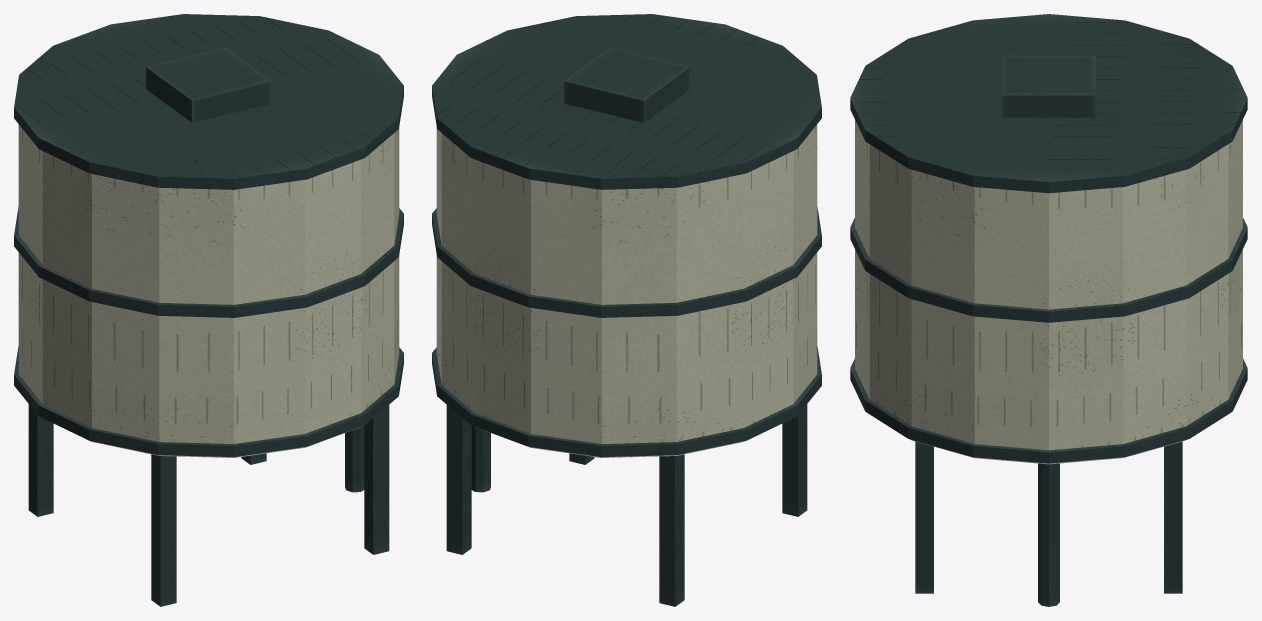
Rendered from roof_tank.fbx.
The picture shows the model from 3 angles, left to right: view 1: azimuth 30°, elevation 25°; view 2: azimuth 150°, elevation 25°; view 3: azimuth 270°, elevation 25°; orthographic projection.
Parts seen in each view (by area): view 1: roof_tank__tank, roof_tank__tank_hoop.002, roof_tank__cap, roof_tank__tank_hoop, roof_tank__tank_hoop.001, roof_tank__support, roof_tank__support.002, roof_tank__support.001, roof_tank__feed_pipe; view 2: roof_tank__tank, roof_tank__tank_hoop.002, roof_tank__cap, roof_tank__tank_hoop, roof_tank__tank_hoop.001, roof_tank__support.001, roof_tank__support.003, roof_tank__support, roof_tank__feed_pipe; view 3: roof_tank__tank, roof_tank__tank_hoop.002, roof_tank__tank_hoop, roof_tank__tank_hoop.001, roof_tank__cap, roof_tank__feed_pipe, roof_tank__support.002, roof_tank__support.003.
Part boxes in pixels (box(x1,y1,x2,y2)): roof_tank__tank: box(18, 124, 399, 457); roof_tank__tank_hoop.002: box(14, 14, 403, 189); roof_tank__cap: box(146, 47, 271, 122); roof_tank__tank_hoop: box(14, 346, 403, 457); roof_tank__tank_hoop.001: box(14, 207, 403, 317); roof_tank__support: box(151, 454, 176, 606); roof_tank__support.002: box(364, 405, 389, 554); roof_tank__support.001: box(28, 404, 53, 516); roof_tank__feed_pipe: box(345, 426, 364, 492); roof_tank__tank: box(436, 124, 817, 457); roof_tank__tank_hoop.002: box(432, 14, 821, 189); roof_tank__cap: box(564, 47, 689, 122); roof_tank__tank_hoop: box(432, 346, 821, 457); roof_tank__tank_hoop.001: box(432, 207, 821, 317); roof_tank__support.001: box(659, 454, 684, 606); roof_tank__support.003: box(446, 405, 471, 554); roof_tank__support: box(782, 404, 807, 516); roof_tank__feed_pipe: box(471, 426, 490, 492); roof_tank__tank: box(855, 120, 1242, 464); roof_tank__tank_hoop.002: box(850, 14, 1247, 193); roof_tank__tank_hoop: box(850, 358, 1247, 463); roof_tank__tank_hoop.001: box(850, 218, 1247, 322); roof_tank__cap: box(1002, 55, 1095, 117); roof_tank__feed_pipe: box(1038, 463, 1059, 606); roof_tank__support.002: box(915, 441, 933, 593); roof_tank__support.003: box(1164, 441, 1182, 593).
Bounding box in the file's own units: 256 × 328 × 256.
2 materials, 2 textured.
